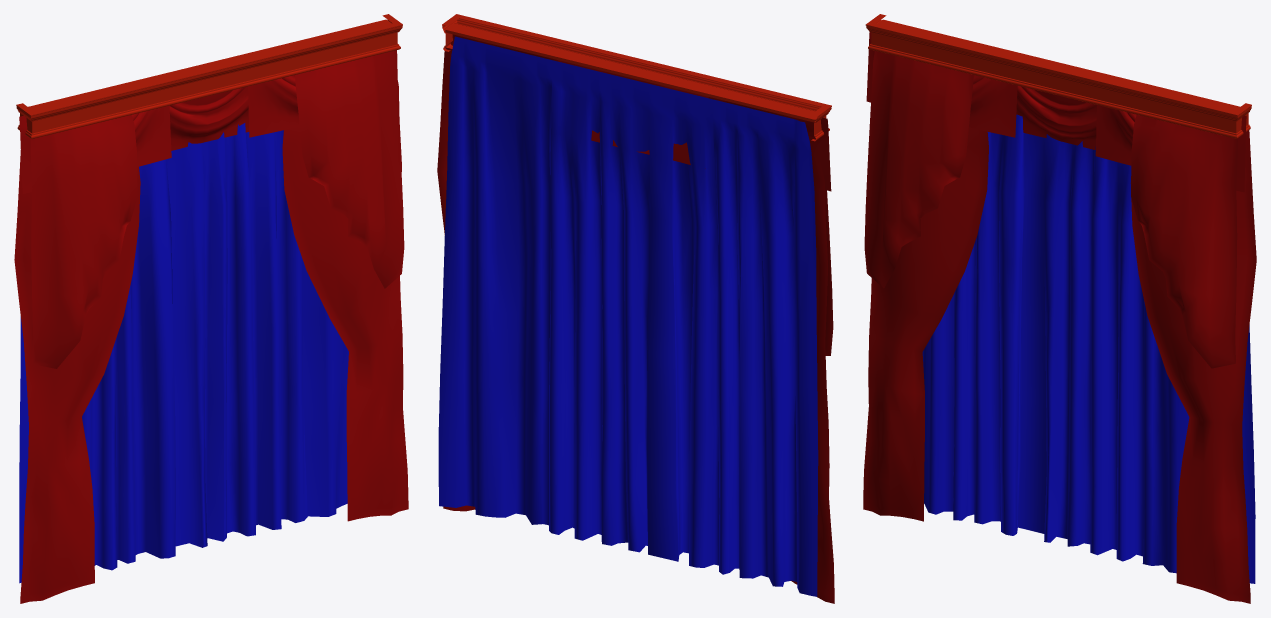
Rendered from Curtain_60.1.fbx.
The picture shows the model from 3 angles, left to right: view 1: azimuth 30°, elevation 25°; view 2: azimuth 150°, elevation 25°; view 3: azimuth 330°, elevation 25°; orthographic projection.
Visible parts, largest first — view 1: Curtain_60.1; view 2: Curtain_60.1; view 3: Curtain_60.1.
Boxes of the visible parts, bbox=[...] form: Curtain_60.1: bbox=[14, 14, 408, 603]; Curtain_60.1: bbox=[437, 14, 834, 603]; Curtain_60.1: bbox=[863, 14, 1256, 603].
Bounding box in the file's own units: 2.08 × 2.51 × 0.2424.
